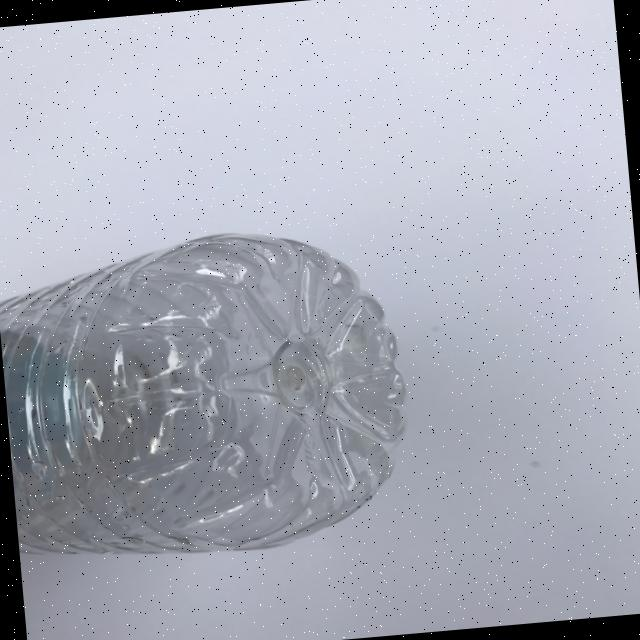plastic: (0, 216, 418, 570)
